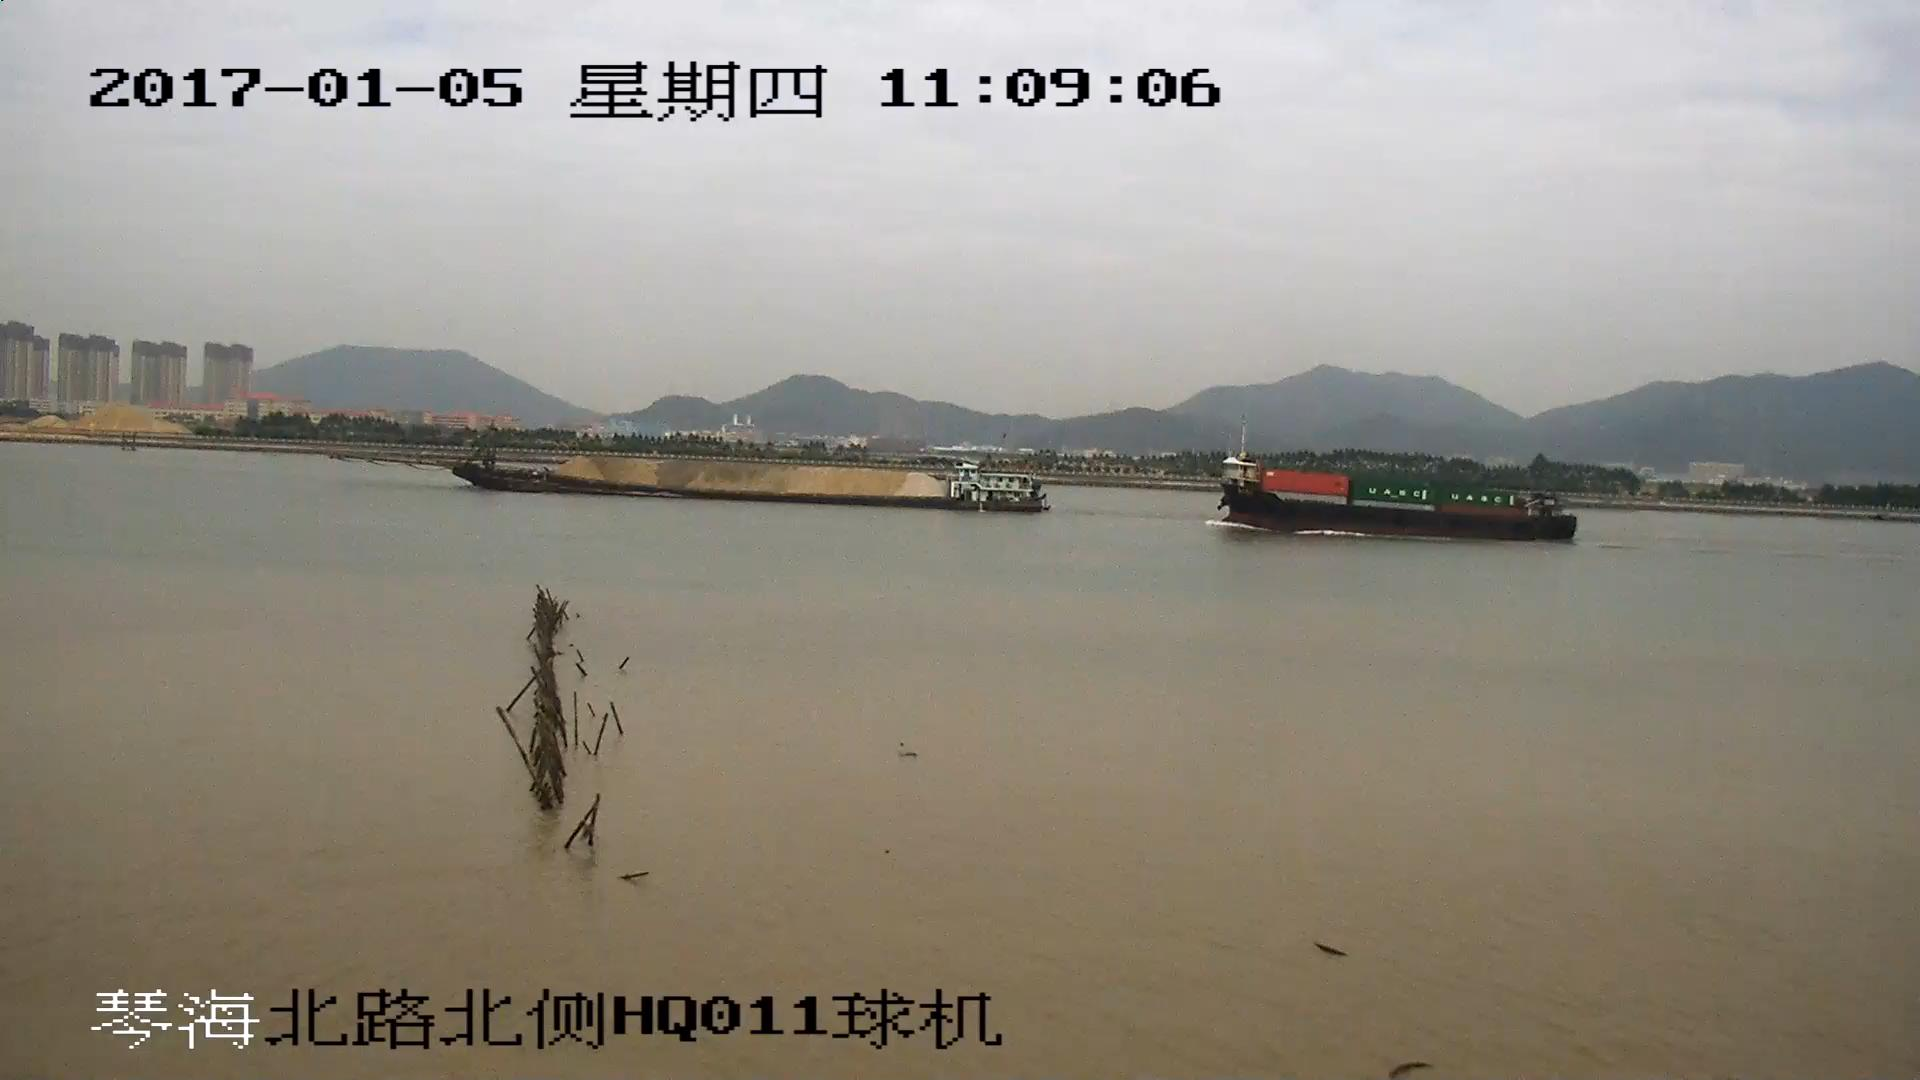container ship: (1209, 457, 1580, 540)
ore carrier: (353, 431, 1051, 513)
